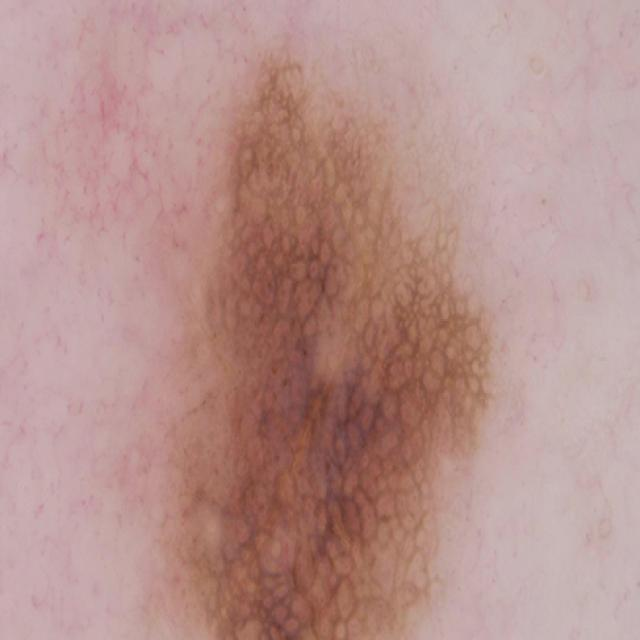Keratosis: (85, 38, 568, 640)
